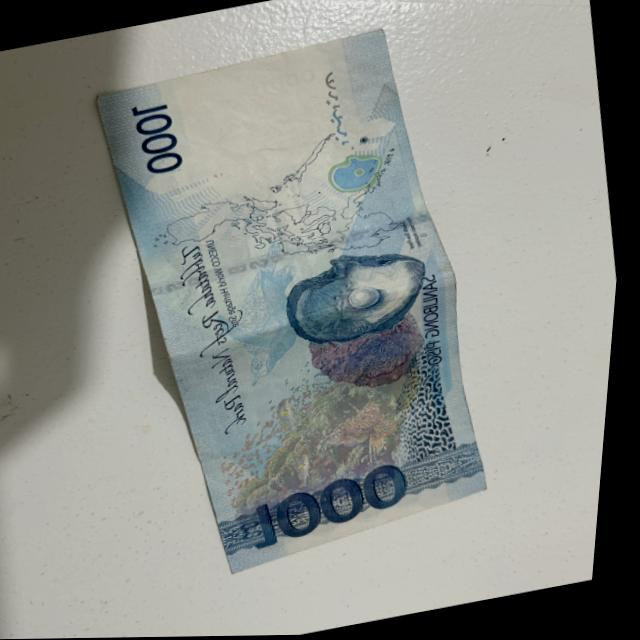1000_pearl: (294, 253, 434, 348)
1000_pearl_watermark: (330, 154, 388, 197)
value_watermark: (237, 59, 325, 107)
watermark: (155, 43, 370, 199)
